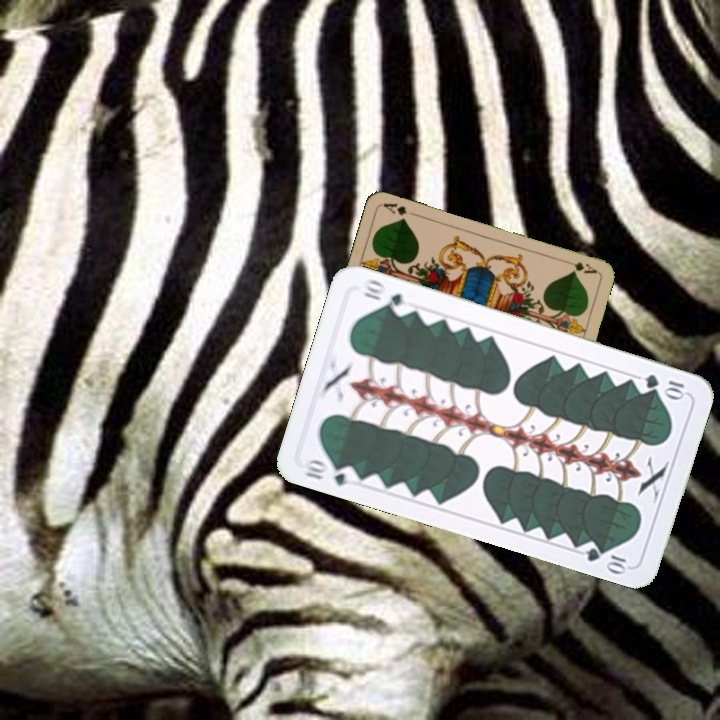G10: (299, 455, 360, 489), (641, 370, 687, 401)
GA: (560, 256, 599, 276)
